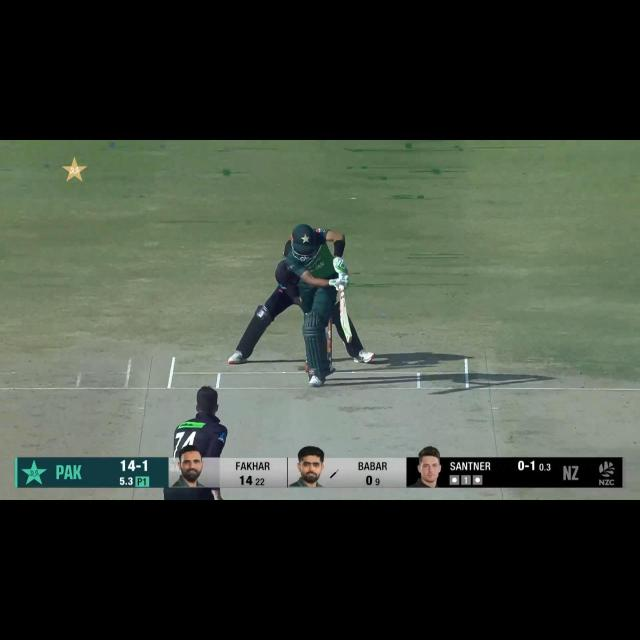bat: (334, 287, 357, 345)
toe: (340, 323, 352, 343)
